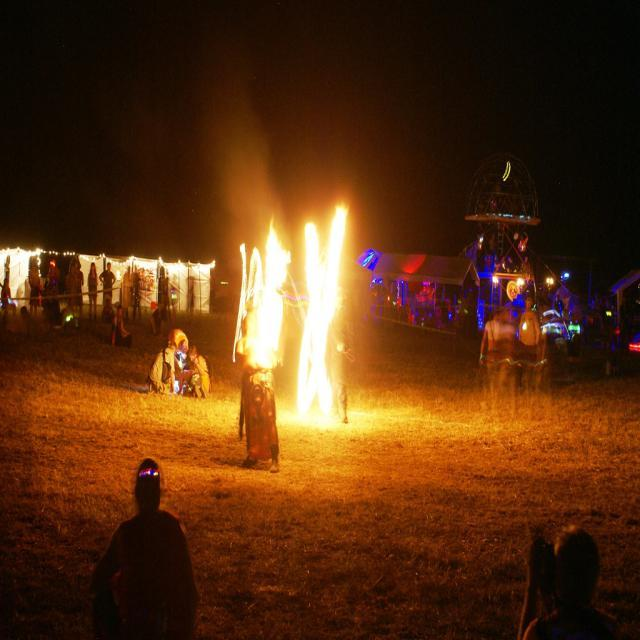Fire: (308, 232, 336, 422), (244, 250, 288, 364)
